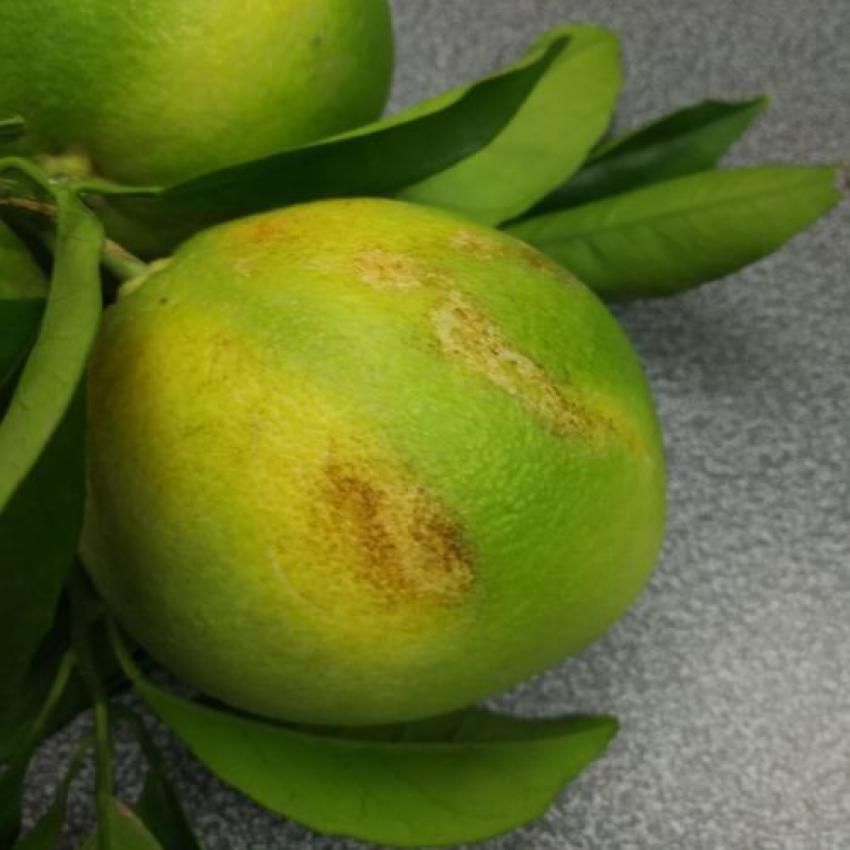Mal estado: (50, 192, 676, 716)
